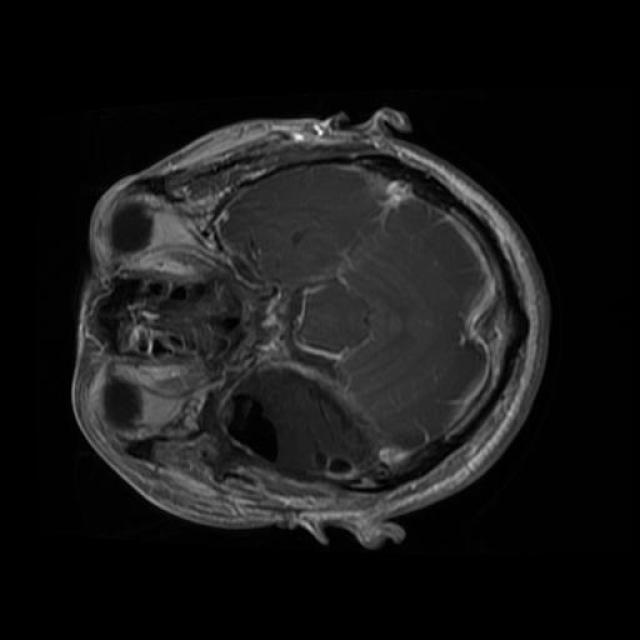Glioma: (222, 366, 376, 486)
